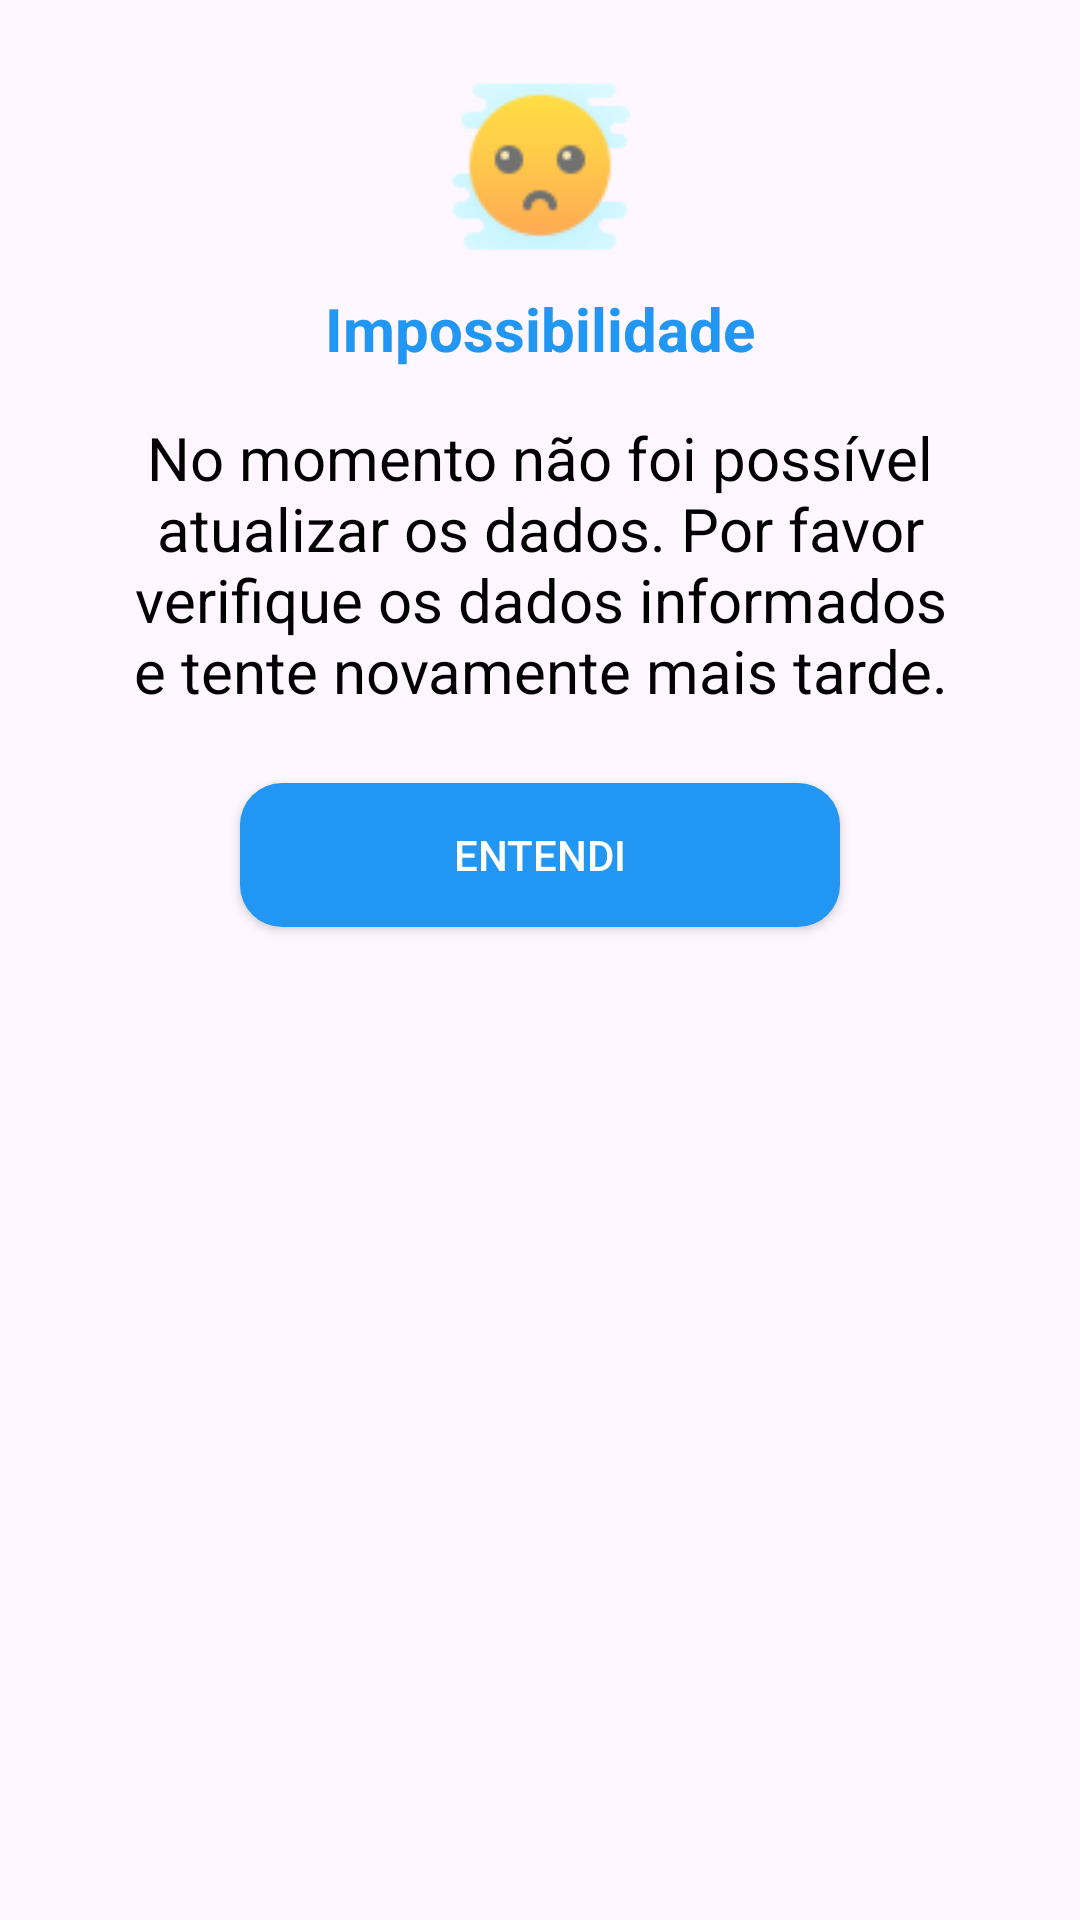

Screen size 1080 × 1920. Icon name, then its center in pixels as (x,y):
triste: (541,167)
